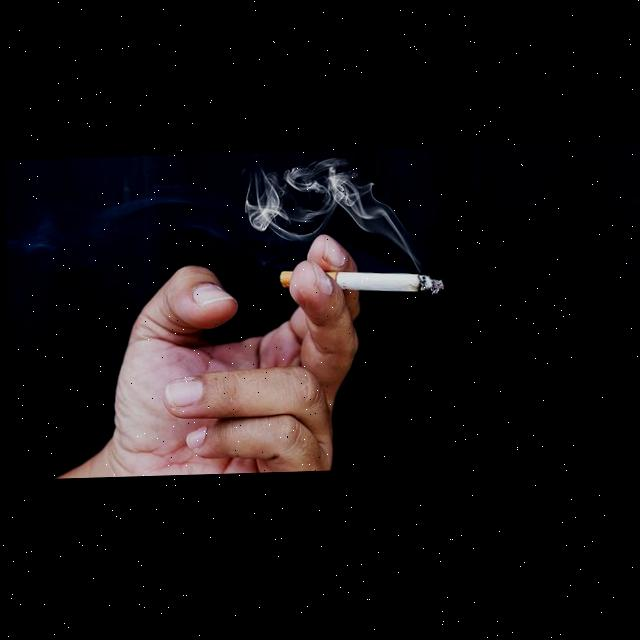cigarette: (278, 269, 442, 300)
